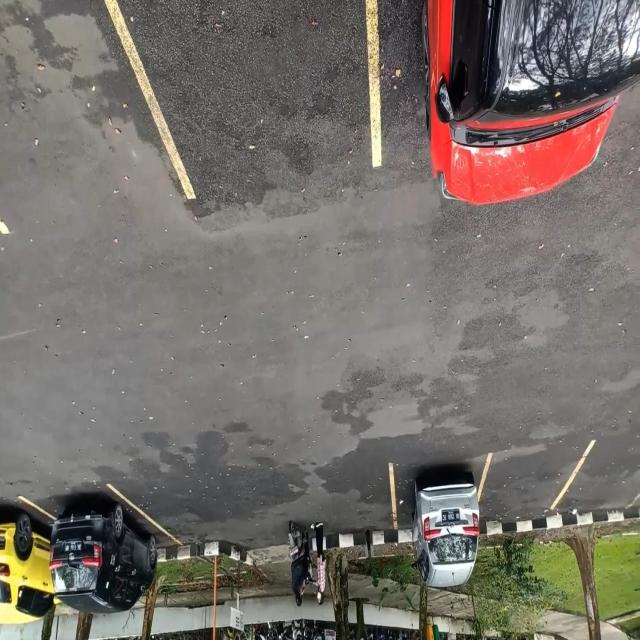empty: (113, 6, 403, 195), (482, 450, 572, 534), (571, 438, 640, 527)
occupied: (49, 486, 158, 596), (389, 465, 483, 567), (0, 493, 51, 607)
